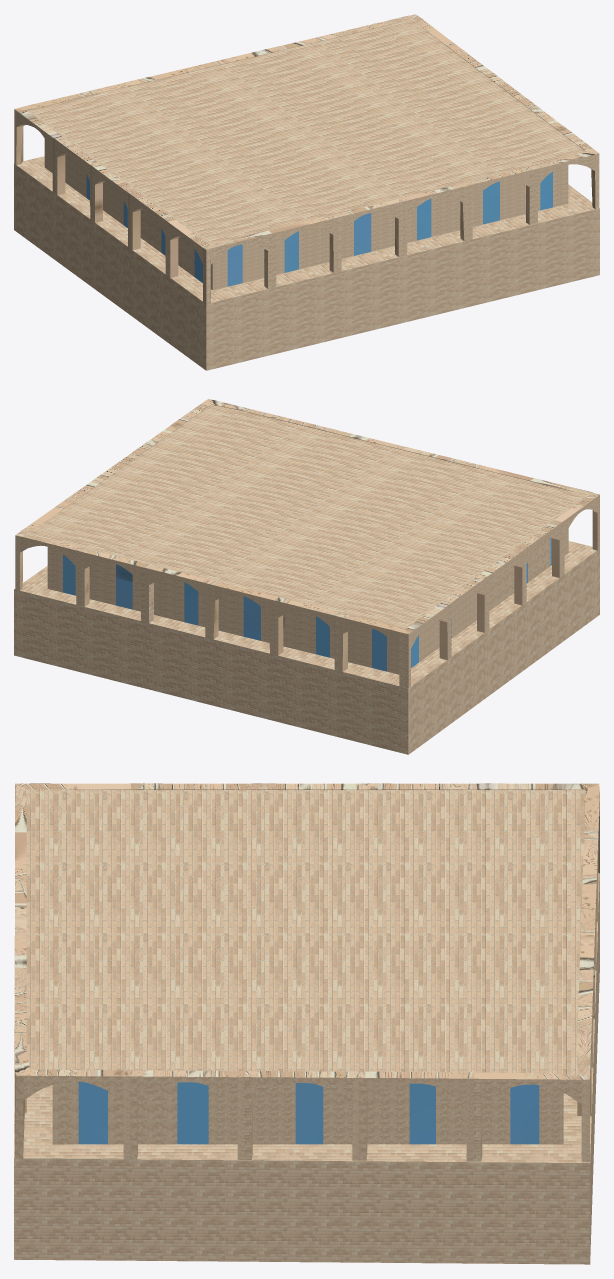
File: SwordsTexturedV1.gltf
The picture shows the model from 3 angles, top to bottom: view 1: azimuth 30°, elevation 25°; view 2: azimuth 150°, elevation 25°; view 3: azimuth 270°, elevation 25°; orthographic projection. The views are drawn at different scales.
Visible parts, largest first — view 1: Cube; view 2: Cube; view 3: Cube.
Boxes of the visible parts, x1=… form: Cube: x1=14, y1=14, x2=599, y2=370; Cube: x1=14, y1=399, x2=599, y2=754; Cube: x1=14, y1=783, x2=599, y2=1264.
Size of the model in its own units: 28.14 by 8.15 by 23.47.
2 materials, 2 textured.
